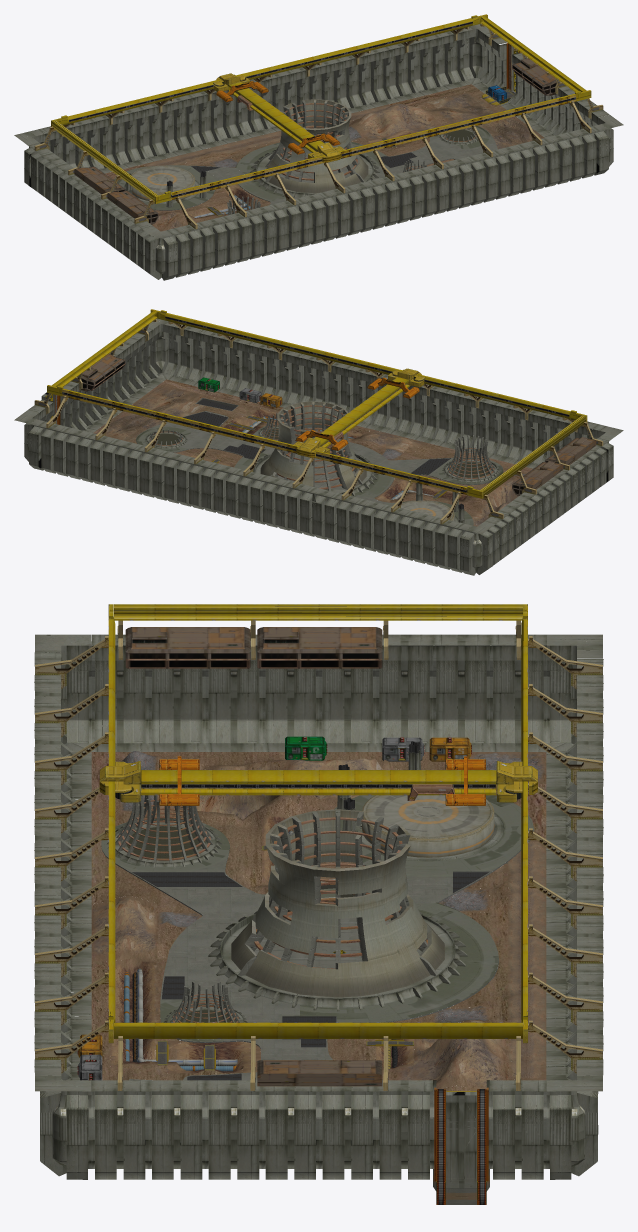
Rendered from power-plant.glb.
3 renders of one model, top to bottom at view 1: azimuth 30°, elevation 25°; view 2: azimuth 150°, elevation 25°; view 3: azimuth 270°, elevation 25°, orthographic. The views are drawn at different scales.
Parts seen in each view (by area): view 1: mesh_0_Mesh_wall_49_subset_0, mesh_104_Mesh_main_track_a01_subset_4, mesh_104_Mesh_main_track_a01_subset_5, mesh_51_Mesh_tall_arch_subset_1, mesh_108_Mesh_main_floor_subset_1, mesh_108_Mesh_main_floor_subset_5, mesh_108_Mesh_main_floor_subset_6, mesh_162_Mesh_command_booth02_subset_0, mesh_108_Mesh_main_floor_subset_2, mesh_109_Mesh_g_bace_main17_subset_0, mesh_51_Mesh_tall_arch_subset_0, mesh_108_Mesh_main_floor_subset_4 (+14 smaller); view 2: mesh_0_Mesh_wall_49_subset_0, mesh_104_Mesh_main_track_a01_subset_4, mesh_104_Mesh_main_track_a01_subset_5, mesh_108_Mesh_main_floor_subset_1, mesh_51_Mesh_tall_arch_subset_0, mesh_108_Mesh_main_floor_subset_6, mesh_162_Mesh_command_booth02_subset_0, mesh_109_Mesh_g_bace_main17_subset_0, mesh_51_Mesh_tall_arch_subset_1, mesh_108_Mesh_main_floor_subset_4, mesh_108_Mesh_main_floor_subset_2, mesh_108_Mesh_main_floor_subset_5 (+13 smaller); view 3: mesh_0_Mesh_wall_49_subset_0, mesh_108_Mesh_main_floor_subset_1, mesh_104_Mesh_main_track_a01_subset_4, mesh_51_Mesh_tall_arch_subset_1, mesh_109_Mesh_g_bace_main17_subset_0, mesh_162_Mesh_command_booth02_subset_0, mesh_108_Mesh_main_floor_subset_2, mesh_108_Mesh_main_floor_subset_5, mesh_51_Mesh_tall_arch_subset_0, mesh_108_Mesh_main_floor_subset_4, mesh_170_Mesh_C_brace_main_subset_0, mesh_108_Mesh_main_floor_subset_12 (+22 smaller).
Boxes of the visible parts, x1=… form: mesh_0_Mesh_wall_49_subset_0: x1=14, y1=24, x2=623, y2=280; mesh_104_Mesh_main_track_a01_subset_4: x1=67, y1=16, x2=586, y2=193; mesh_104_Mesh_main_track_a01_subset_5: x1=69, y1=21, x2=575, y2=200; mesh_51_Mesh_tall_arch_subset_1: x1=231, y1=99, x2=368, y2=213; mesh_108_Mesh_main_floor_subset_1: x1=105, y1=84, x2=506, y2=224; mesh_108_Mesh_main_floor_subset_5: x1=152, y1=104, x2=440, y2=231; mesh_108_Mesh_main_floor_subset_6: x1=421, y1=91, x2=544, y2=149; mesh_162_Mesh_command_booth02_subset_0: x1=74, y1=58, x2=560, y2=224; mesh_108_Mesh_main_floor_subset_2: x1=113, y1=125, x2=495, y2=210; mesh_109_Mesh_g_bace_main17_subset_0: x1=60, y1=26, x2=591, y2=231; mesh_51_Mesh_tall_arch_subset_0: x1=227, y1=100, x2=476, y2=215; mesh_108_Mesh_main_floor_subset_4: x1=201, y1=138, x2=497, y2=204; mesh_0_Mesh_wall_49_subset_0: x1=14, y1=318, x2=623, y2=575; mesh_104_Mesh_main_track_a01_subset_4: x1=52, y1=311, x2=570, y2=487; mesh_104_Mesh_main_track_a01_subset_5: x1=62, y1=316, x2=569, y2=494; mesh_108_Mesh_main_floor_subset_1: x1=162, y1=379, x2=532, y2=524; mesh_51_Mesh_tall_arch_subset_0: x1=149, y1=403, x2=495, y2=490; mesh_108_Mesh_main_floor_subset_6: x1=93, y1=383, x2=218, y2=443; mesh_162_Mesh_command_booth02_subset_0: x1=77, y1=354, x2=596, y2=495; mesh_109_Mesh_g_bace_main17_subset_0: x1=46, y1=321, x2=577, y2=524; mesh_51_Mesh_tall_arch_subset_1: x1=260, y1=402, x2=468, y2=488; mesh_108_Mesh_main_floor_subset_4: x1=165, y1=398, x2=440, y2=502; mesh_108_Mesh_main_floor_subset_2: x1=136, y1=424, x2=503, y2=525; mesh_108_Mesh_main_floor_subset_5: x1=254, y1=429, x2=520, y2=526; mesh_0_Mesh_wall_49_subset_0: x1=34, y1=634, x2=603, y2=1179; mesh_108_Mesh_main_floor_subset_1: x1=91, y1=752, x2=546, y2=1091; mesh_104_Mesh_main_track_a01_subset_4: x1=108, y1=619, x2=527, y2=1038; mesh_51_Mesh_tall_arch_subset_1: x1=137, y1=802, x2=444, y2=997; mesh_109_Mesh_g_bace_main17_subset_0: x1=35, y1=636, x2=602, y2=1073; mesh_162_Mesh_command_booth02_subset_0: x1=125, y1=627, x2=382, y2=1086; mesh_108_Mesh_main_floor_subset_2: x1=101, y1=795, x2=533, y2=1080; mesh_108_Mesh_main_floor_subset_5: x1=91, y1=756, x2=508, y2=1091; mesh_51_Mesh_tall_arch_subset_0: x1=115, y1=795, x2=437, y2=1022; mesh_108_Mesh_main_floor_subset_4: x1=129, y1=874, x2=479, y2=1080; mesh_170_Mesh_C_brace_main_subset_0: x1=114, y1=604, x2=522, y2=620; mesh_108_Mesh_main_floor_subset_12: x1=508, y1=848, x2=546, y2=1064.
Size of the model in its own units: 245 by 53.42 by 128.
Materials: 65 (65 with a texture image).
